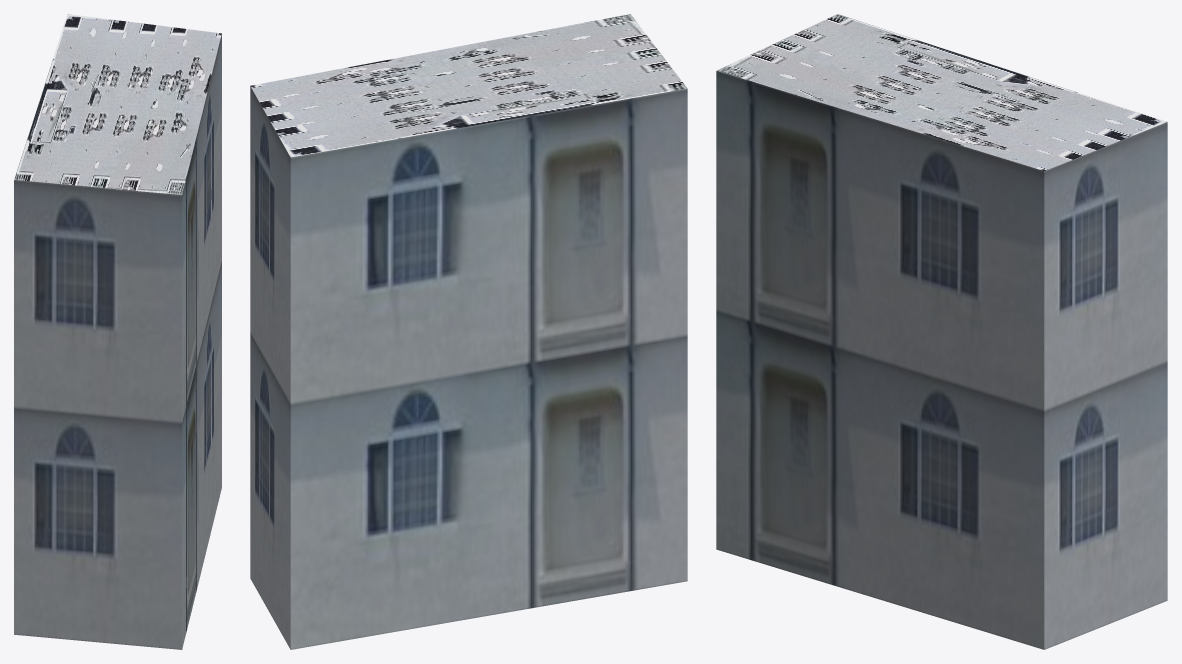
File: ResTex__1357.fbx
3 renders of one model, left to right at view 1: azimuth 30°, elevation 25°; view 2: azimuth 150°, elevation 25°; view 3: azimuth 270°, elevation 25°, orthographic. The views are drawn at different scales.
Parts seen in each view (by area): view 1: CityEngineMaterial_17_m, CityEngineMaterial_4_m; view 2: CityEngineMaterial_17_m, CityEngineMaterial_4_m; view 3: CityEngineMaterial_17_m, CityEngineMaterial_4_m.
Part boxes in pixels (box(x1,y1,x2,y2)): CityEngineMaterial_17_m: box(14, 34, 221, 649); CityEngineMaterial_4_m: box(14, 14, 221, 194); CityEngineMaterial_17_m: box(250, 86, 687, 649); CityEngineMaterial_4_m: box(250, 14, 687, 157); CityEngineMaterial_17_m: box(716, 71, 1167, 649); CityEngineMaterial_4_m: box(717, 14, 1166, 170).
Bounding box in the file's own units: 4.22 × 6 × 5.12.
Materials: 2 (2 with a texture image).
